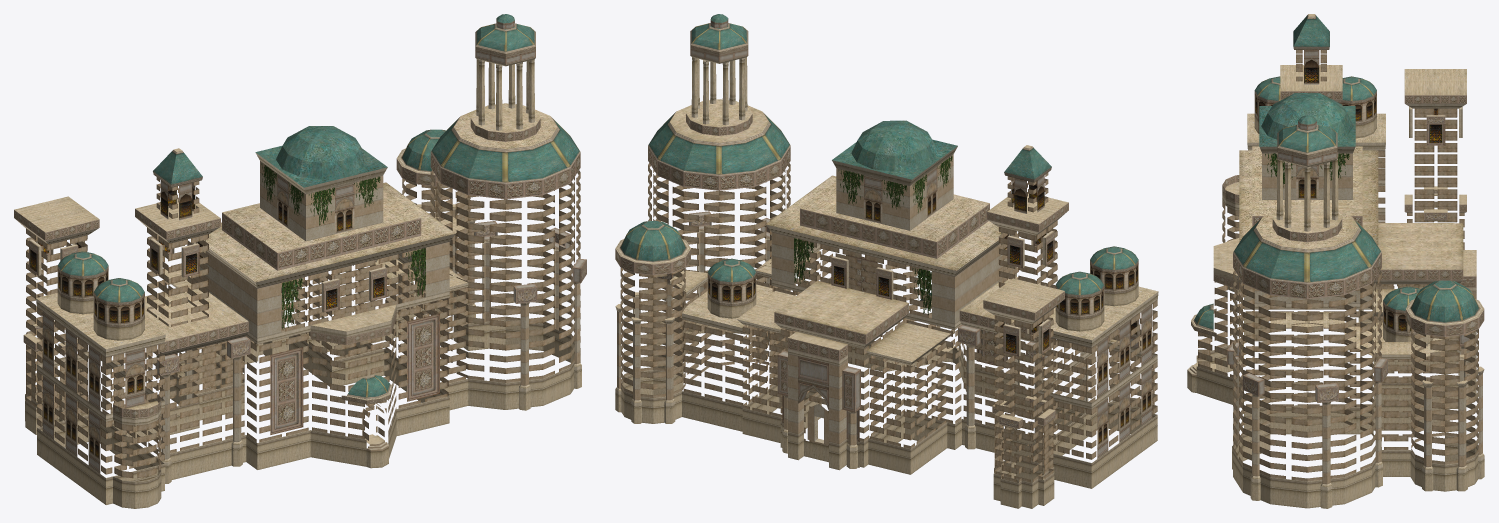
File: thm_nboo_block_bldg_64x32_s02_r0_mesh_l1.fbx
3 renders of one model, left to right at view 1: azimuth 30°, elevation 25°; view 2: azimuth 150°, elevation 25°; view 3: azimuth 270°, elevation 25°, orthographic. The views are drawn at different scales.
Parts seen in each view (by area): view 1: mesh_node; view 2: mesh_node; view 3: mesh_node.
Part boxes in pixels (x1=…): mesh_node: x1=14, y1=14, x2=586, y2=508; mesh_node: x1=615, y1=14, x2=1158, y2=508; mesh_node: x1=1187, y1=14, x2=1484, y2=508.
Bounding box in the file's own units: 62.53 × 43.41 × 32.38.
